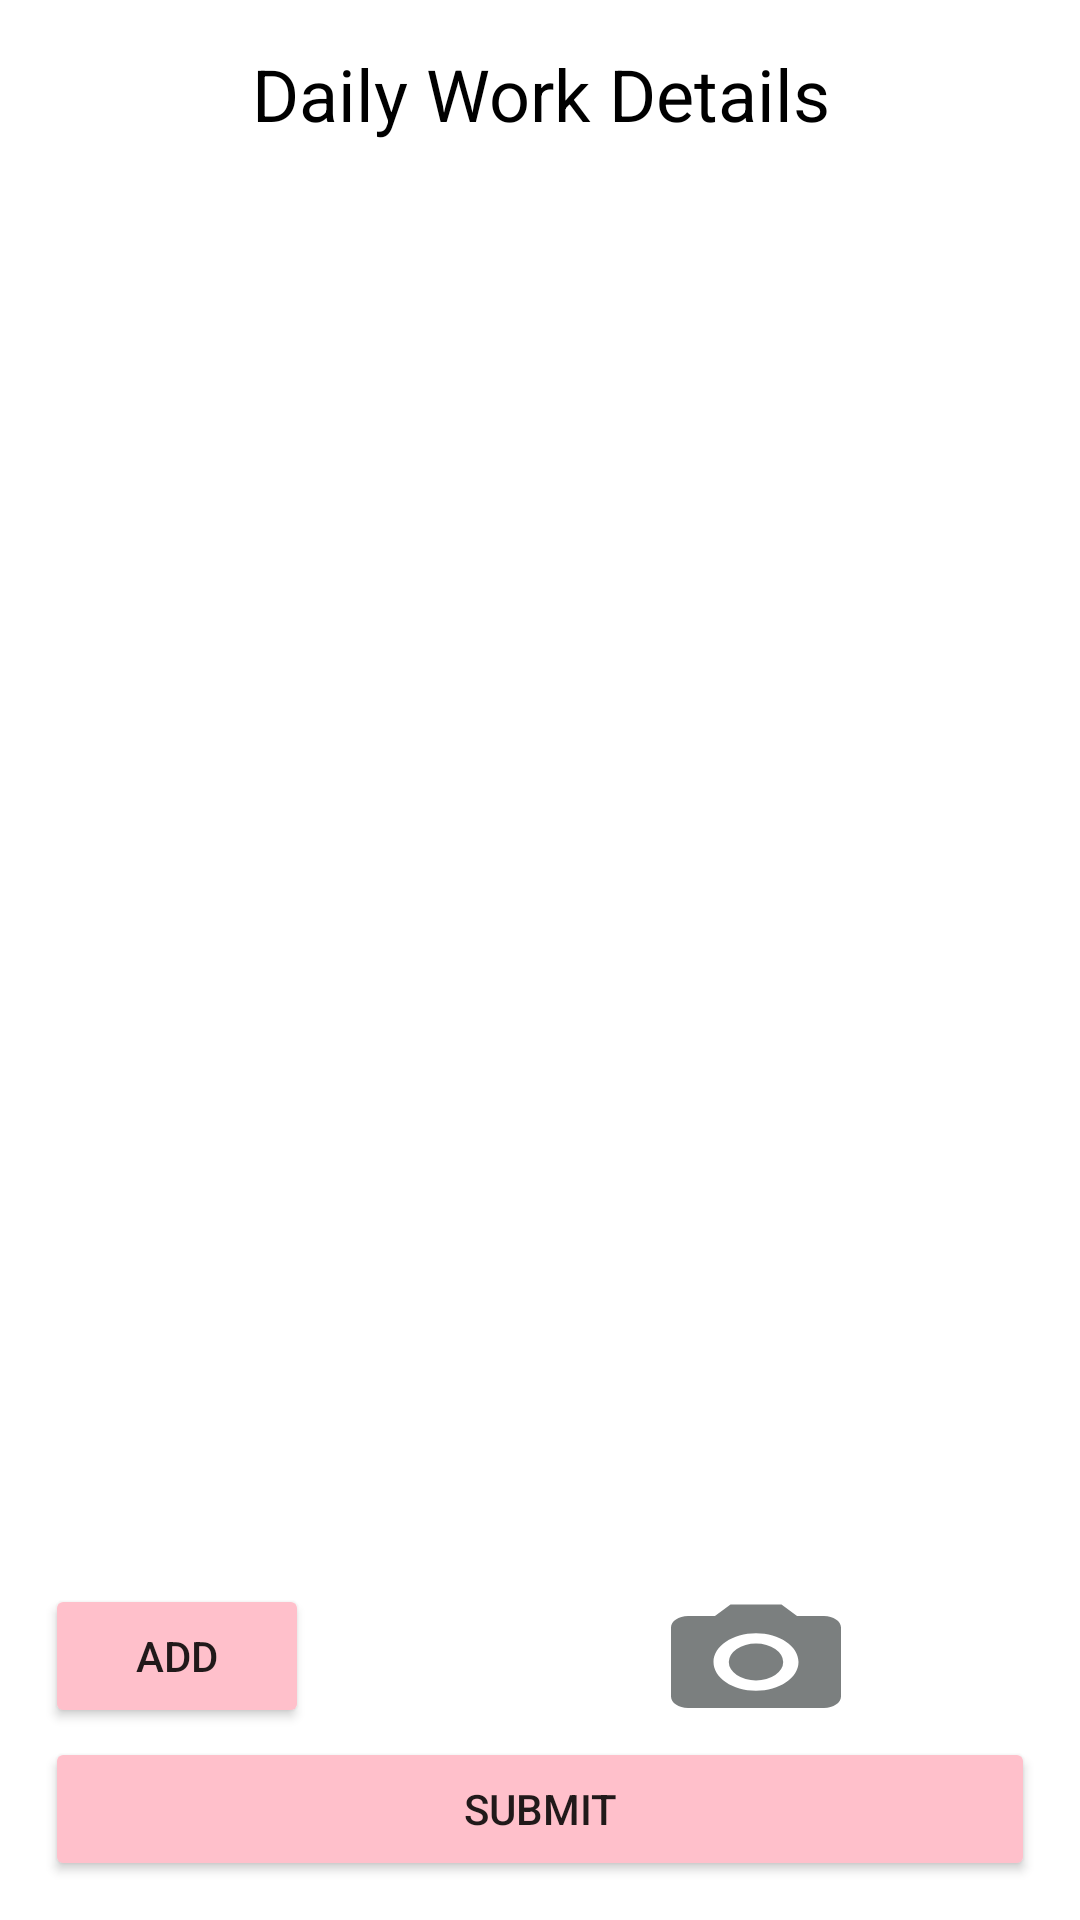

Locate icon controls on the screen. Image size 1080×1920, boxes as (x1, y1, x2, y2).
camera: (671, 1604, 841, 1708)
